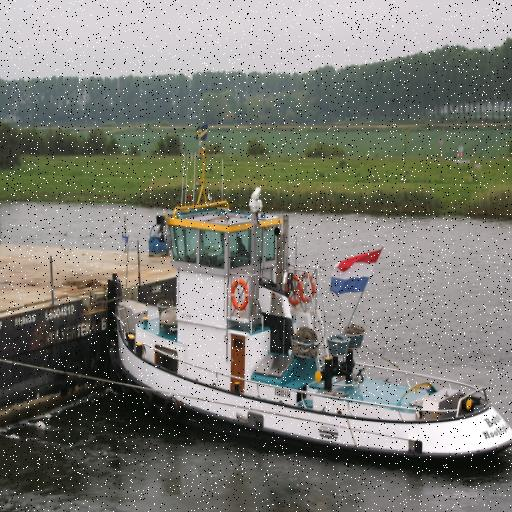tugboat: (101, 124, 512, 476)
